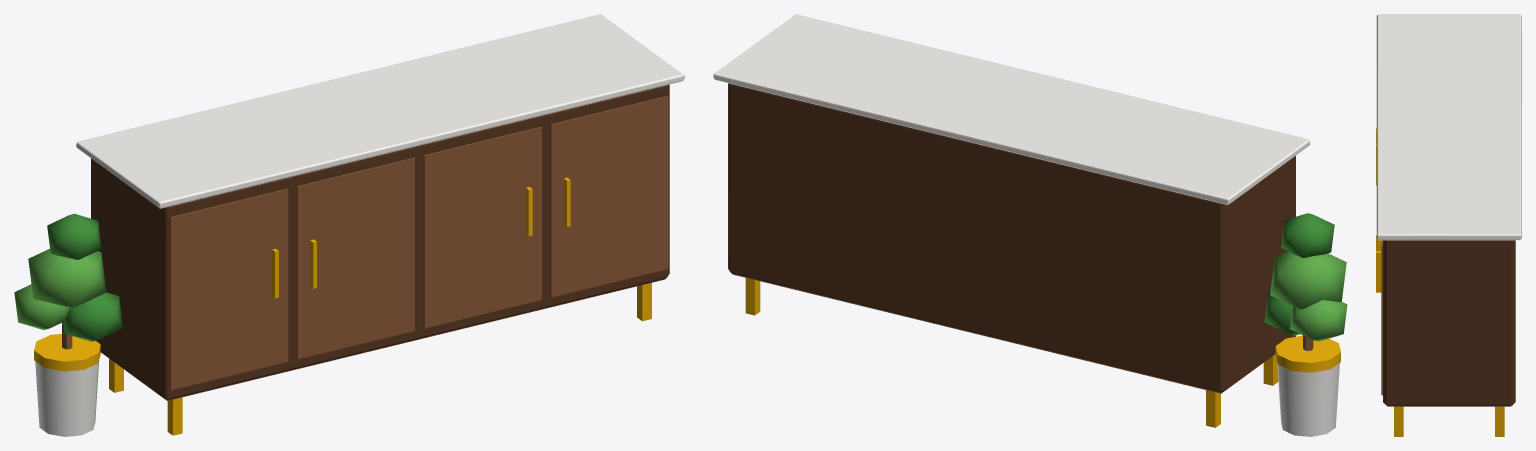
The model's file is station_special_basis.glb.
3 renders of one model, left to right at view 1: azimuth 30°, elevation 25°; view 2: azimuth 150°, elevation 25°; view 3: azimuth 270°, elevation 25°, orthographic. The views are drawn at different scales.
Visible parts, largest first — view 1: station_special_basis; view 2: station_special_basis; view 3: station_special_basis.
Boxes of the visible parts, <box> form: station_special_basis: <box>14,14,684,436</box>; station_special_basis: <box>713,14,1347,436</box>; station_special_basis: <box>1376,14,1521,436</box>.
Size of the model in its own units: 1.93 by 0.742 by 0.462.
